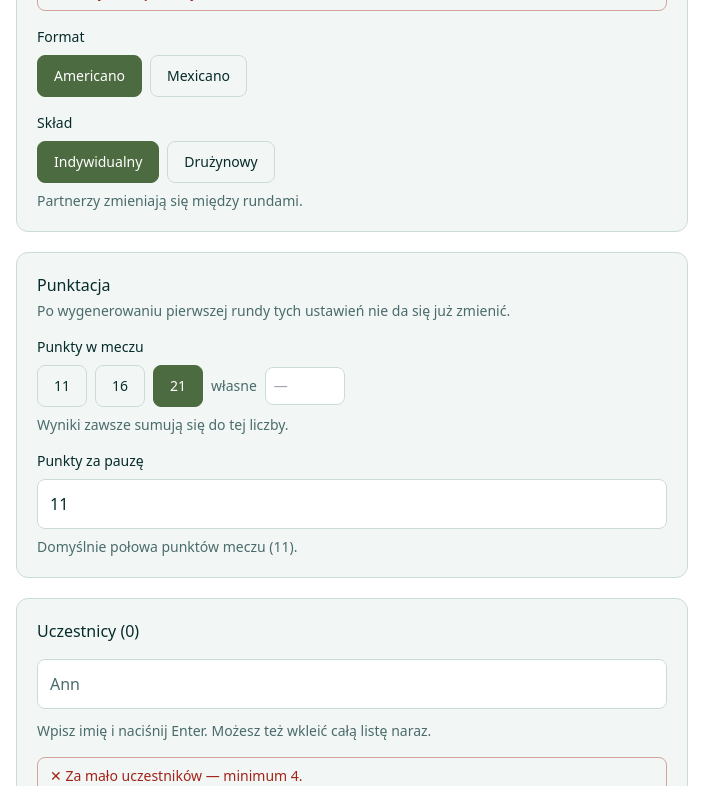
Test: create form › tracks rest points at half the target until the organiser sets them
(page scrolled)
Click the button "16": click(120, 386) [95,365,145,407]
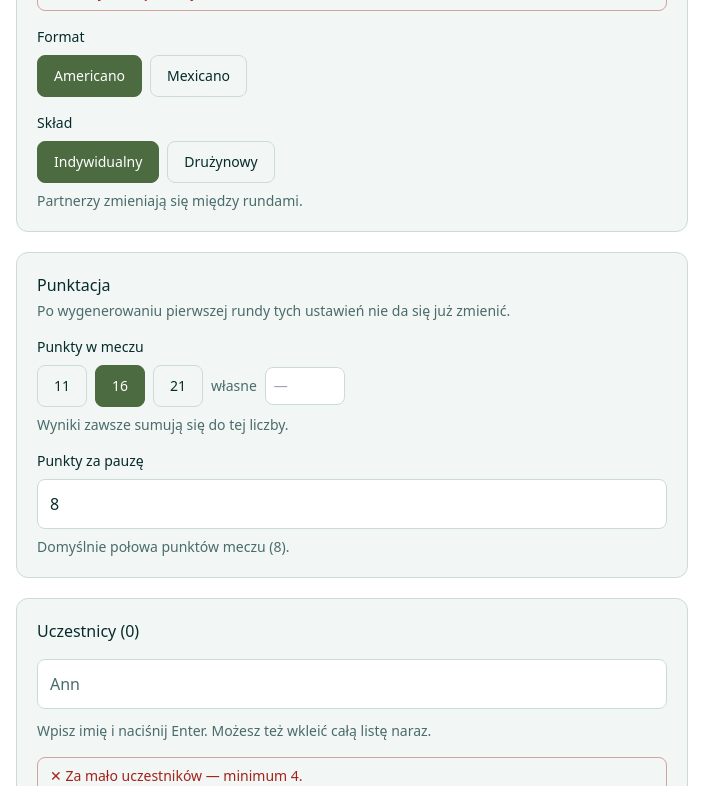
Result: the number field with id "restPoints" holds "8" at [37,479,667,529]
Click the button "11": click(62, 386) [37,365,87,407]
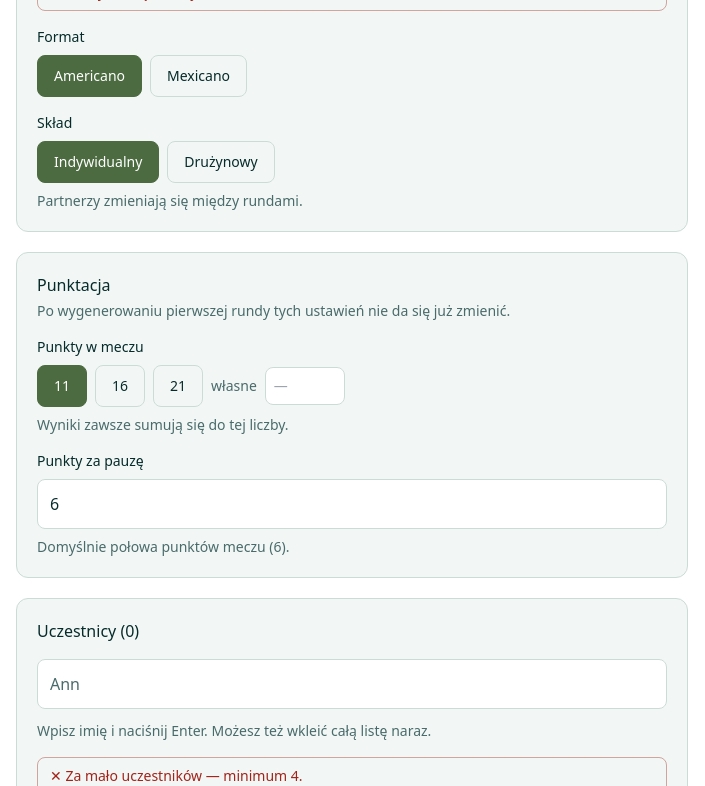
Result: the number field with id "restPoints" holds "6" at [37,479,667,529]
